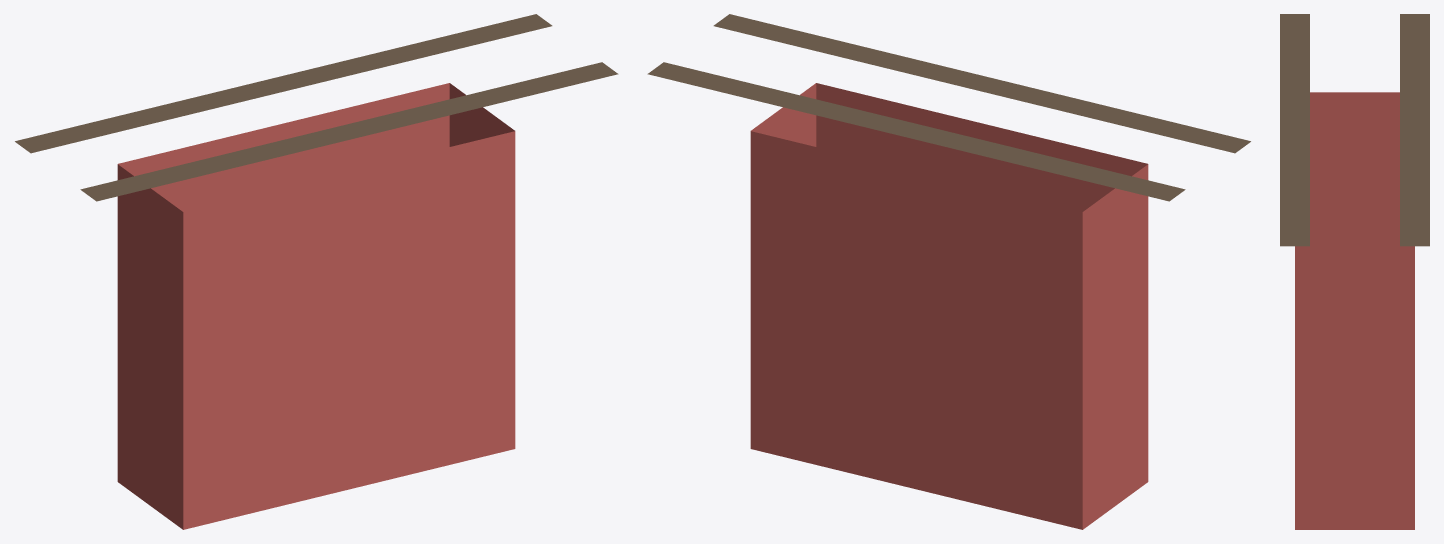
The model's file is FeltCheckTote.glb.
3 renders of one model, left to right at view 1: azimuth 30°, elevation 25°; view 2: azimuth 150°, elevation 25°; view 3: azimuth 270°, elevation 25°, orthographic. The views are drawn at different scales.
Visible parts, largest first — view 1: ToteBody, StrapFront, StrapBack; view 2: ToteBody, StrapBack, StrapFront; view 3: ToteBody, StrapFront, StrapBack.
Boxes of the visible parts, x1=… form: ToteBody: x1=117, y1=83, x2=515, y2=529; StrapFront: x1=80, y1=62, x2=618, y2=201; StrapBack: x1=15, y1=14, x2=552, y2=153; ToteBody: x1=750, y1=83, x2=1148, y2=529; StrapBack: x1=647, y1=62, x2=1185, y2=201; StrapFront: x1=713, y1=14, x2=1250, y2=153; ToteBody: x1=1295, y1=92, x2=1414, y2=529; StrapFront: x1=1280, y1=14, x2=1309, y2=246; StrapBack: x1=1400, y1=14, x2=1429, y2=246.
Size of the model in its own units: 0.55 by 0.36 by 0.15.
